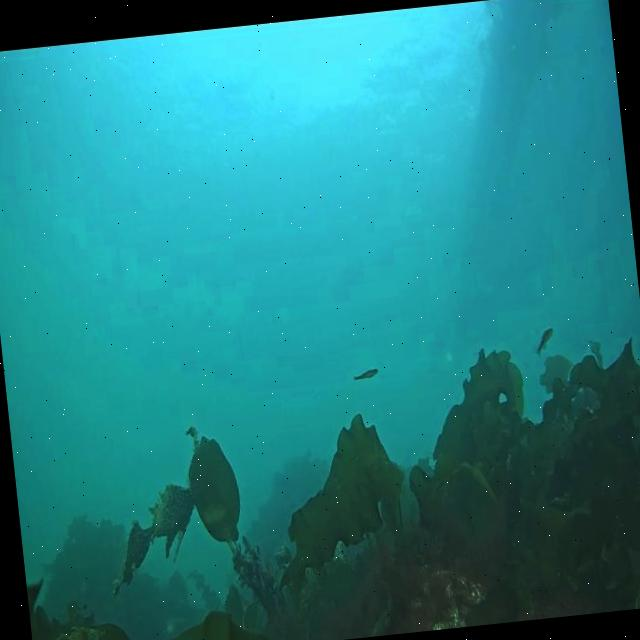fish: (534, 326, 556, 356), (353, 366, 379, 382)
